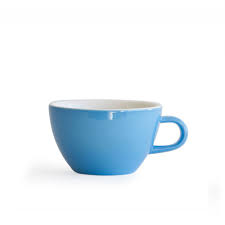cup: (46, 96, 191, 178)
